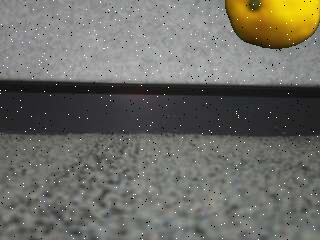Lemon: (225, 0, 320, 49)
